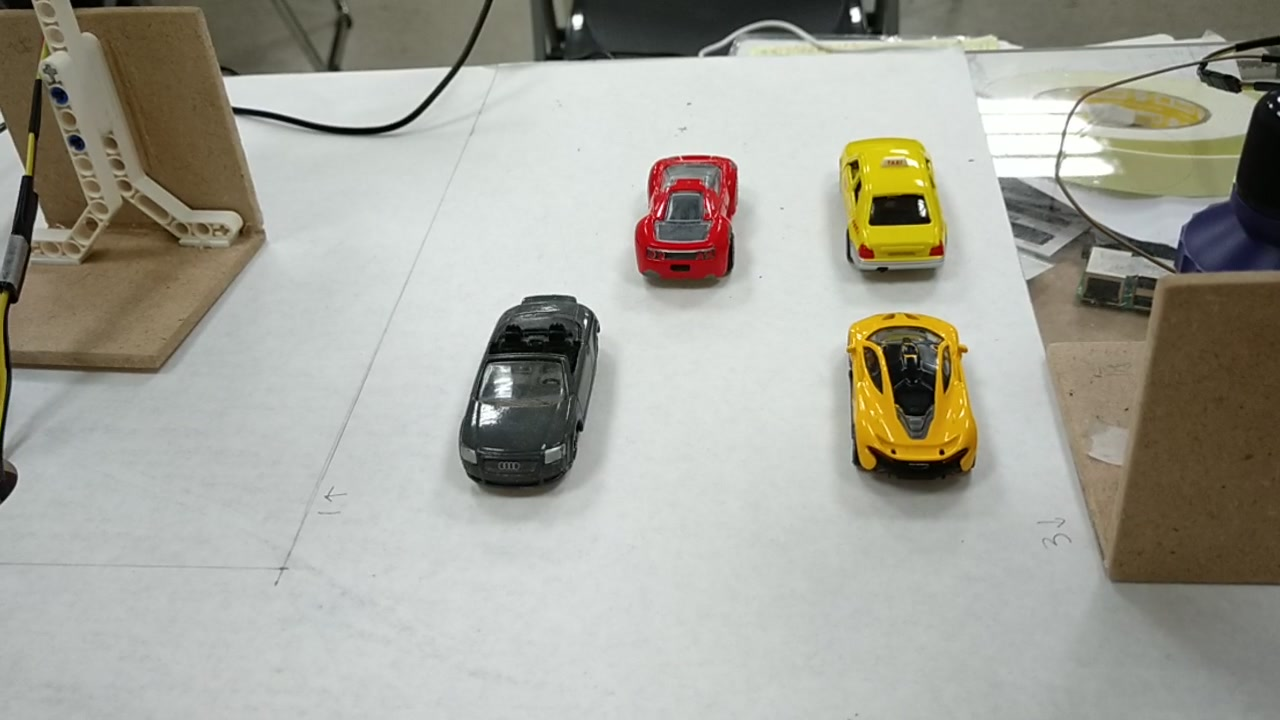car: (457, 302, 608, 495), (849, 321, 969, 474), (634, 152, 746, 280), (847, 128, 938, 280)
